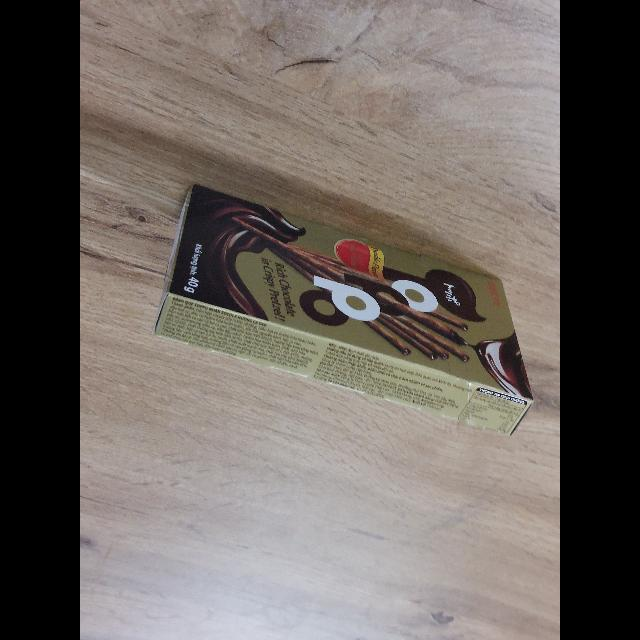banh_toppo_socola: (154, 182, 534, 436)
